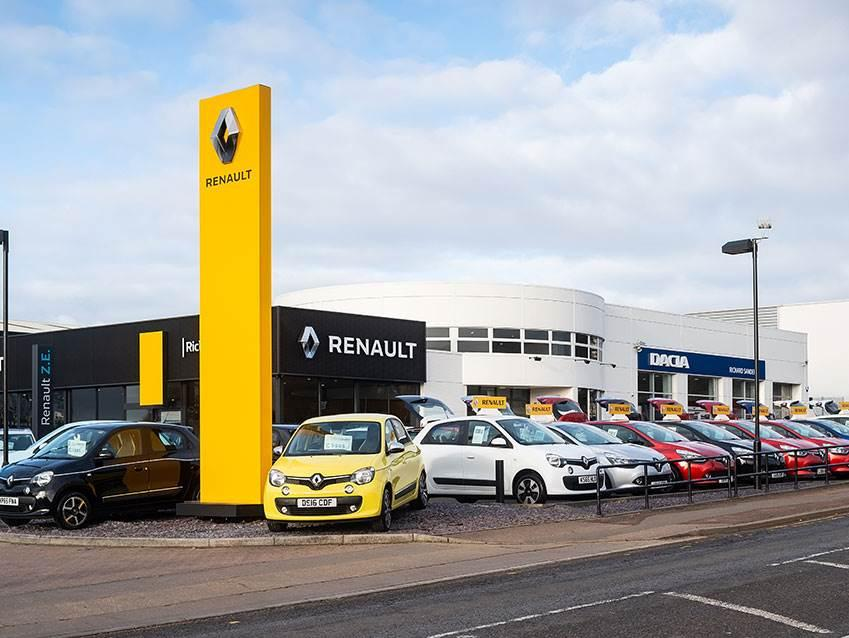Renault: (203, 98, 249, 169), (296, 319, 328, 365), (307, 469, 327, 492), (3, 472, 18, 491), (651, 456, 662, 474), (580, 455, 592, 470), (771, 452, 781, 463), (815, 448, 825, 459), (720, 455, 729, 467)
